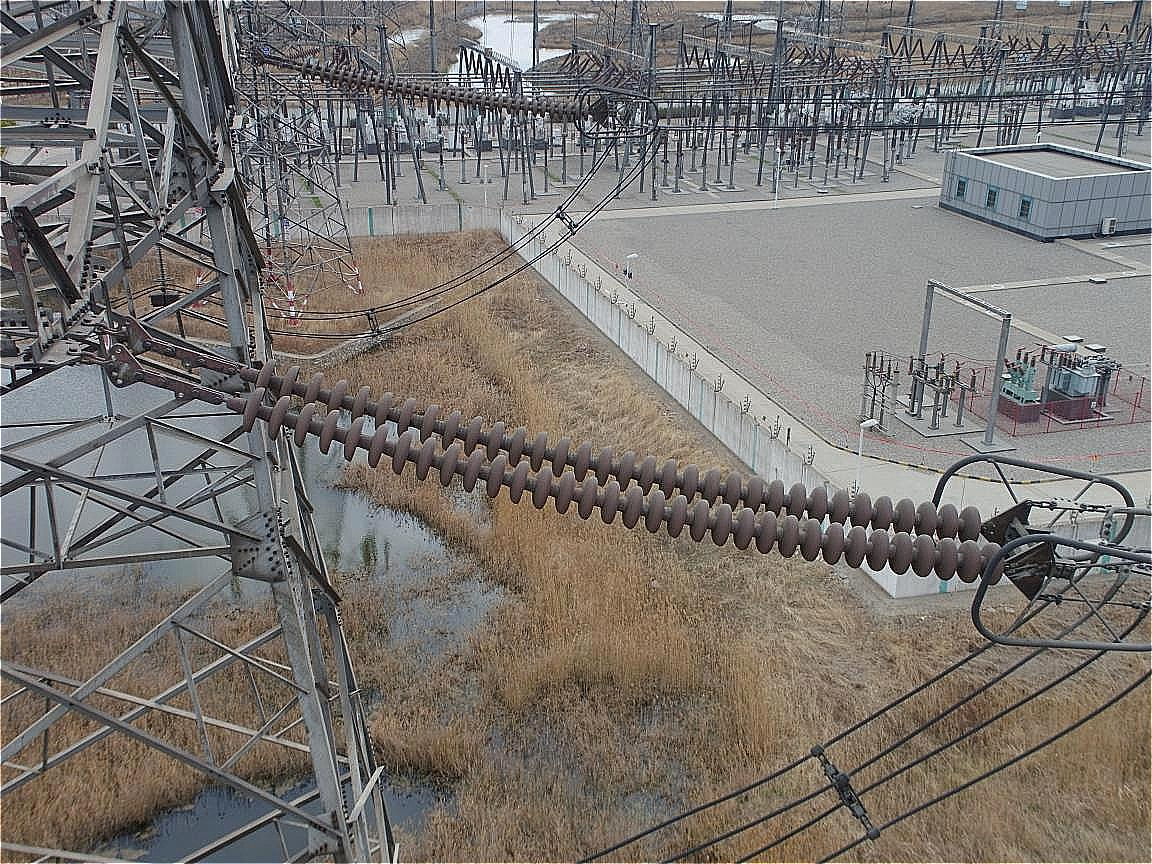insultor1: (200, 352, 1032, 599), (278, 55, 617, 143)
